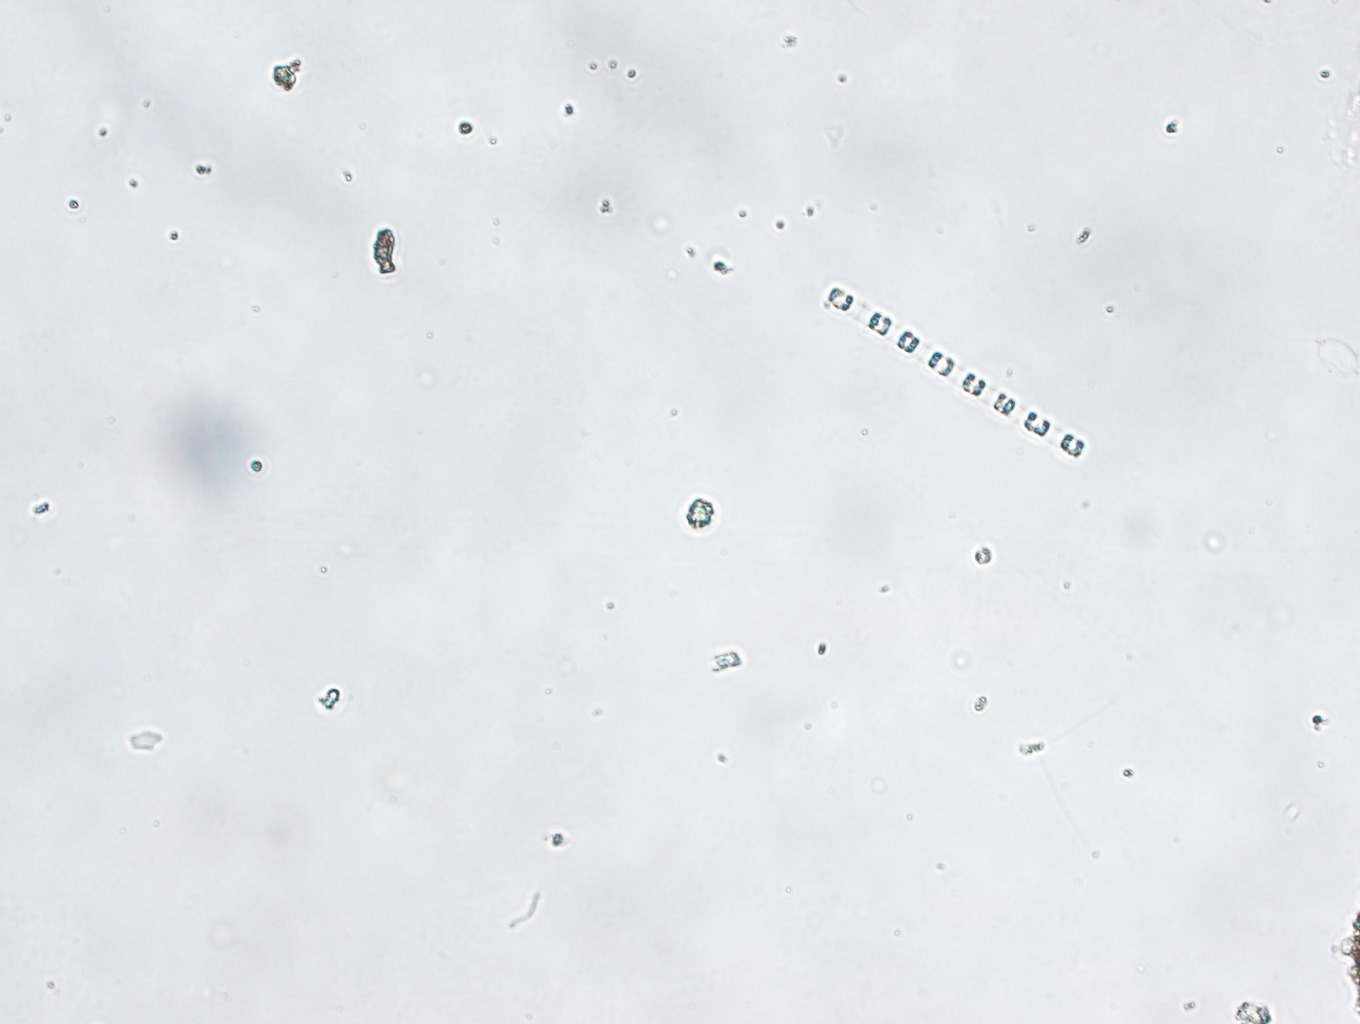skeletonema: (819, 283, 1090, 464)
